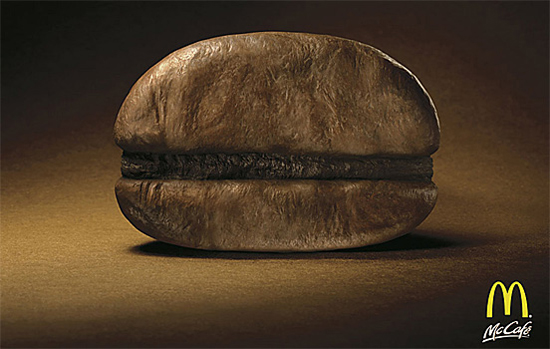mcdonalds: (482, 278, 529, 316)
